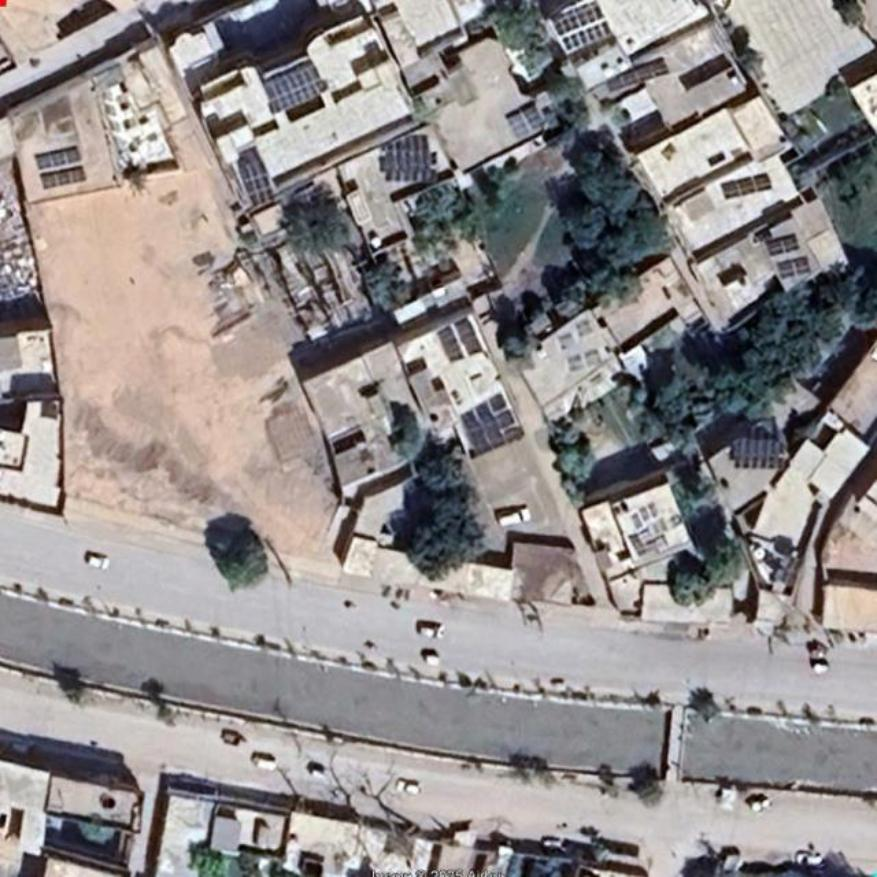Solarpanel: (462, 396, 524, 451), (262, 62, 324, 111), (550, 1, 611, 49), (384, 138, 434, 182), (607, 56, 669, 88), (240, 153, 277, 204), (734, 439, 786, 469), (721, 171, 771, 197), (34, 146, 80, 168), (42, 167, 87, 189), (780, 258, 811, 278), (767, 235, 798, 253)
